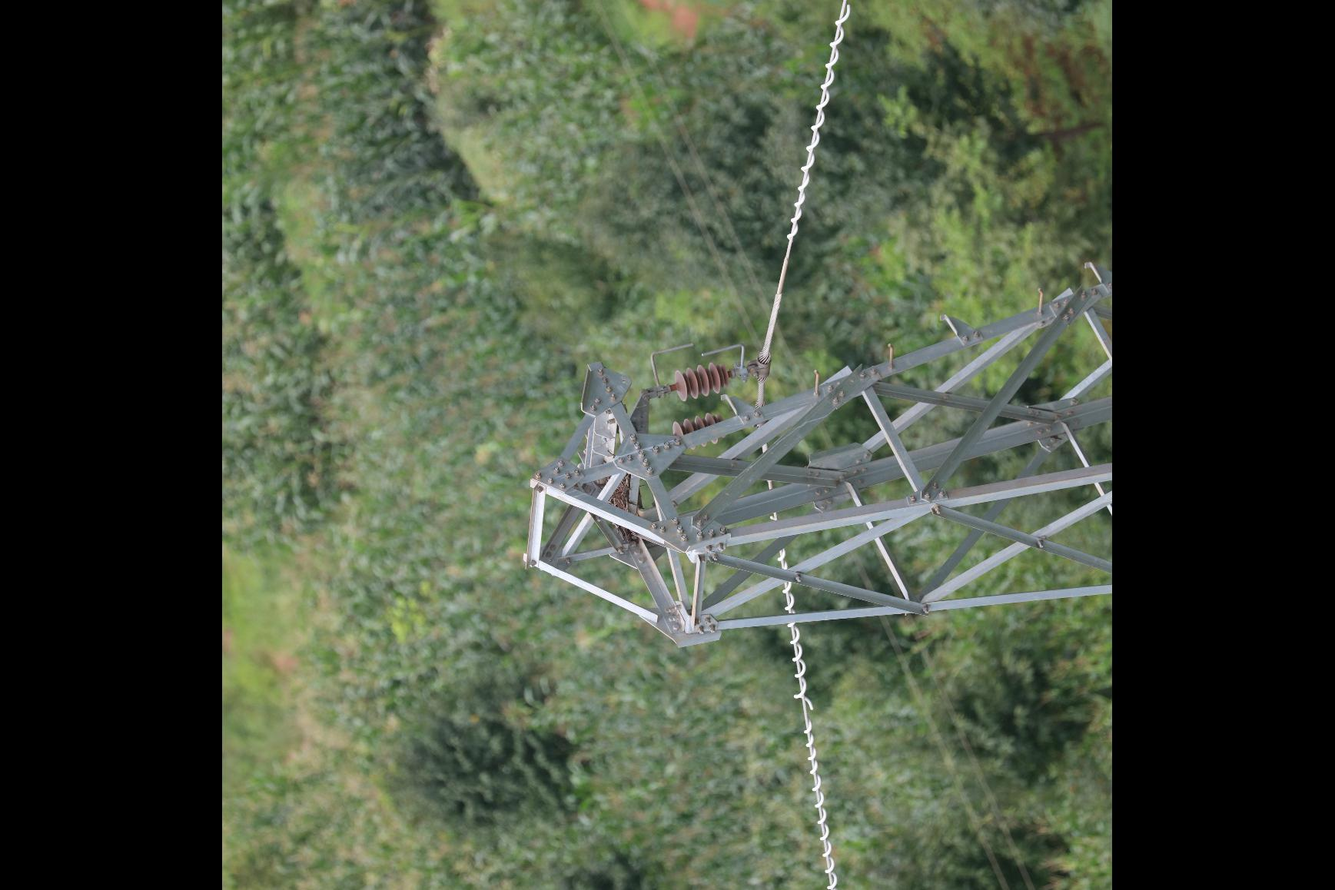nest: (604, 474, 634, 514)
